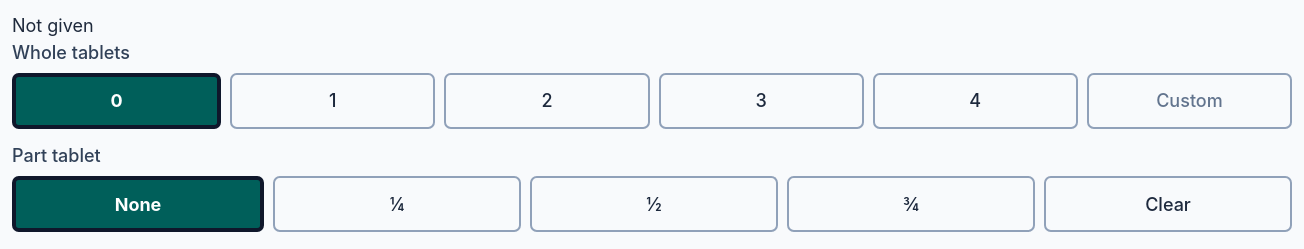
it: DosePicker custom whole-tablets input › accepts exactly the cap value of 10
In the field: [1189, 101] box x1=1087 y1=73 x2=1292 y2=129, type "10"
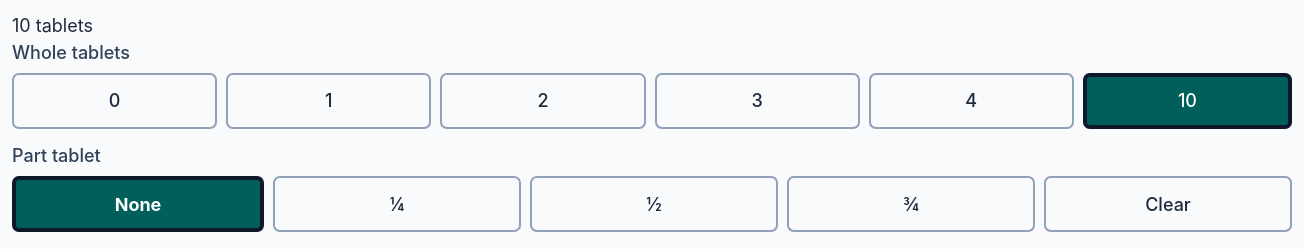
Check: the text "10 tablets" is shown, box x1=12 y1=15 x2=93 y2=36
